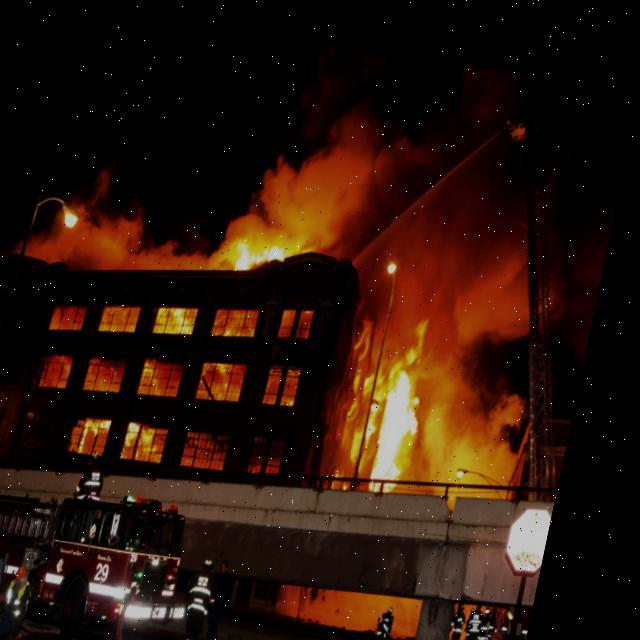Fire: (0, 174, 573, 536)
